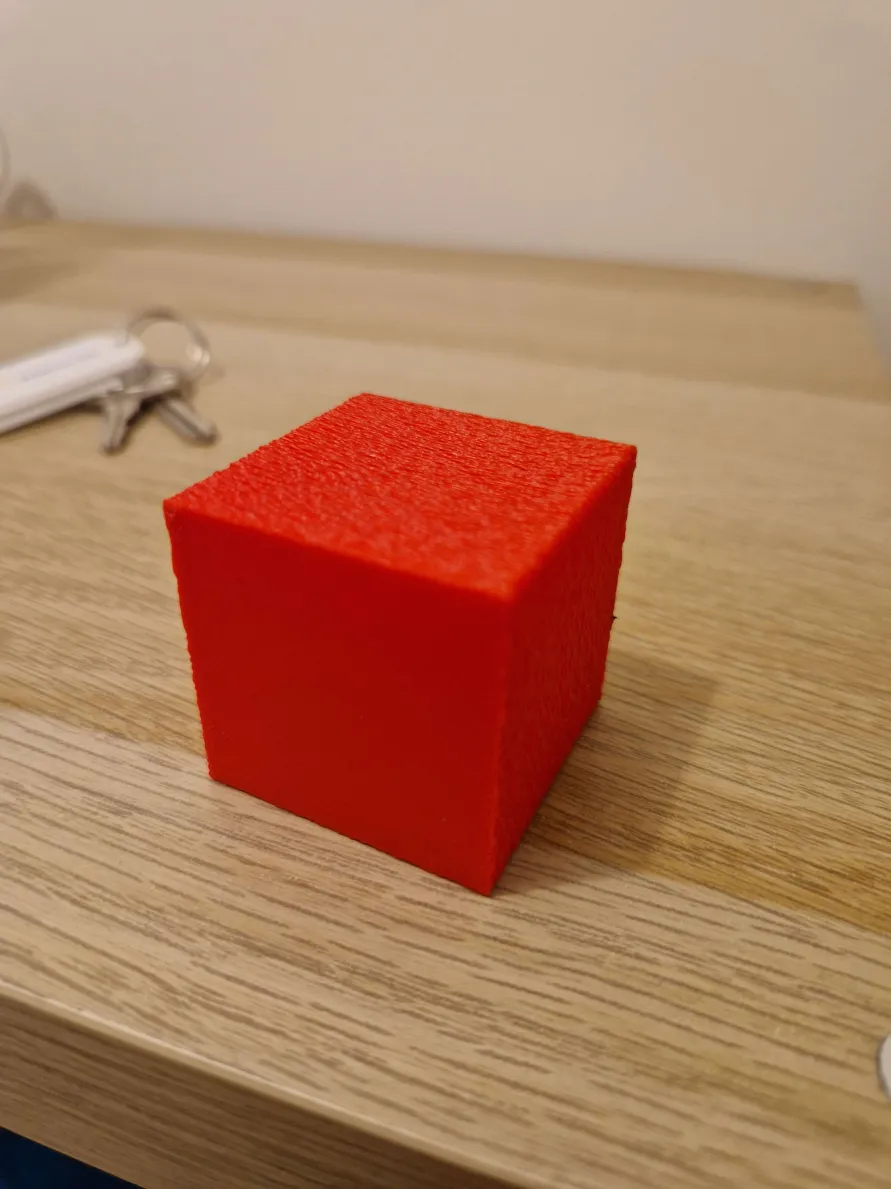red_cube: (160, 387, 640, 899)
